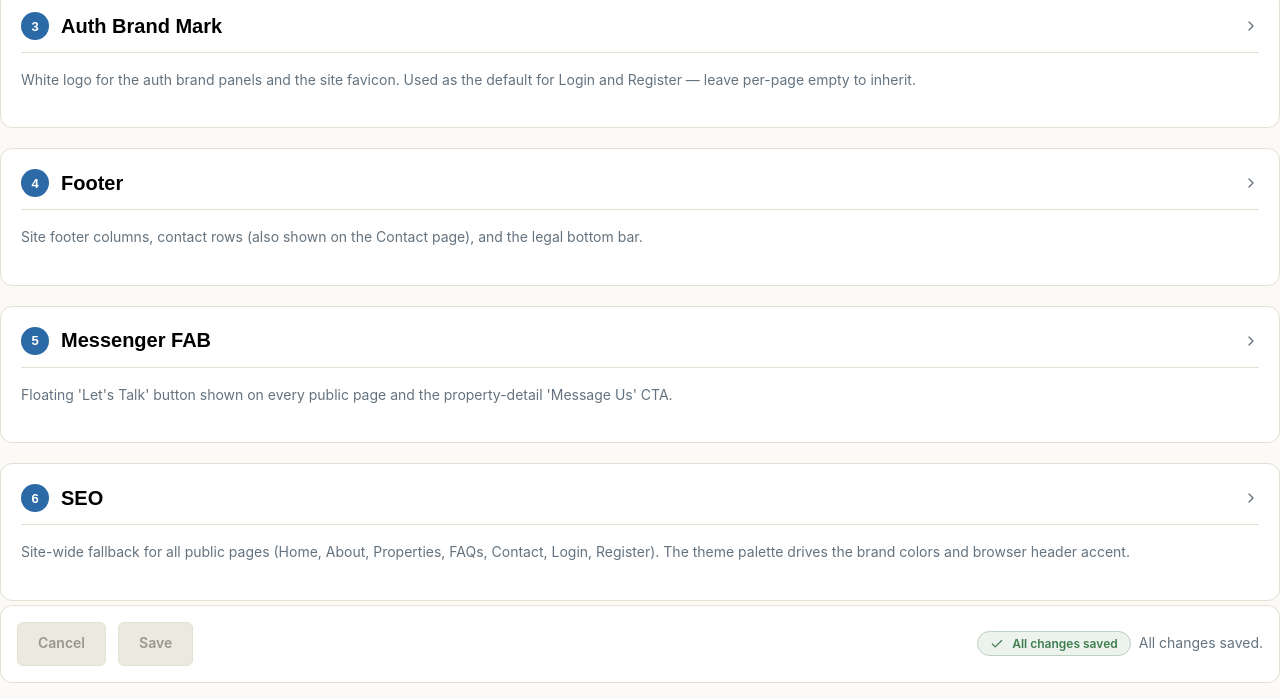
CmsGlobalPage — Global Content CMS › theme palette renders all five color fields and validates primary hex
The width and height of the screenshot is (1280, 699).
(page scrolled)
Click the button "6 SEO". click: click(82, 498)
box: [21, 484, 1259, 525]
(page scrolled)
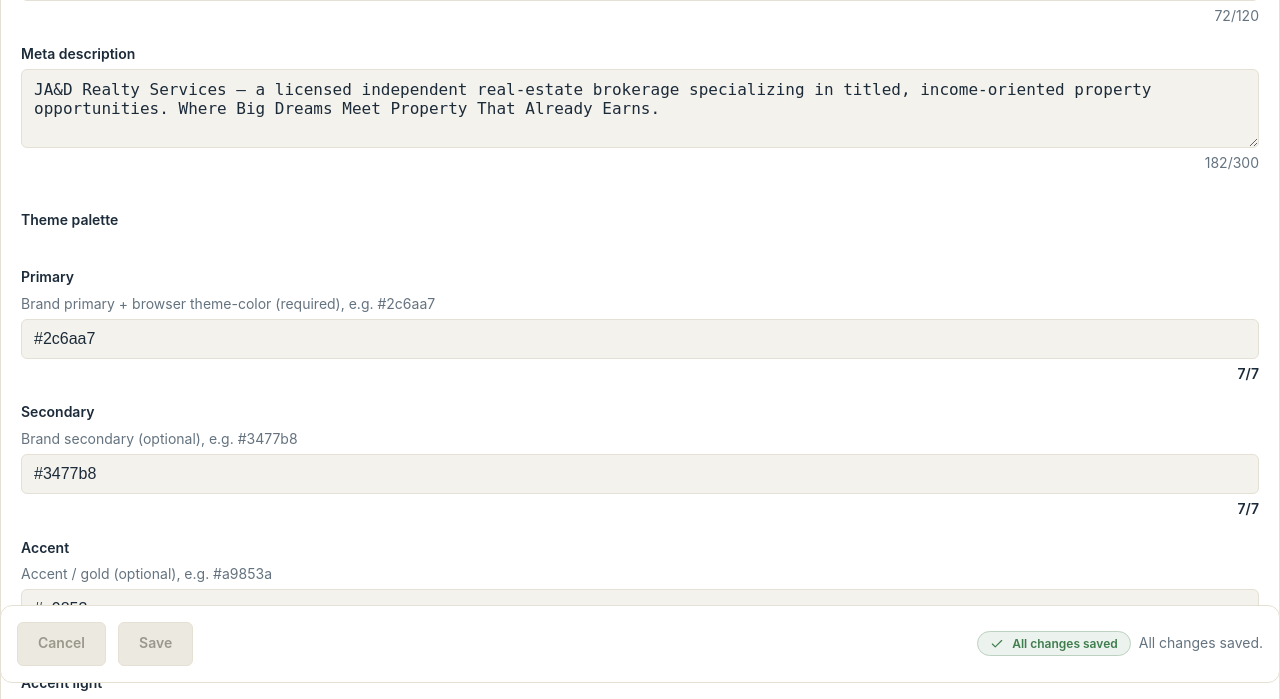
Expected: the field showing "#2c6aa7" is shown
Expected: the field showing "#3477b8" is shown, [21, 454, 1259, 494]
Expected: the field showing "#a9853a" is shown, [21, 589, 1259, 629]
Replace the text in the field showing "#2c6aa7" with "blue". click: (640, 339)
box: [21, 319, 1259, 359]
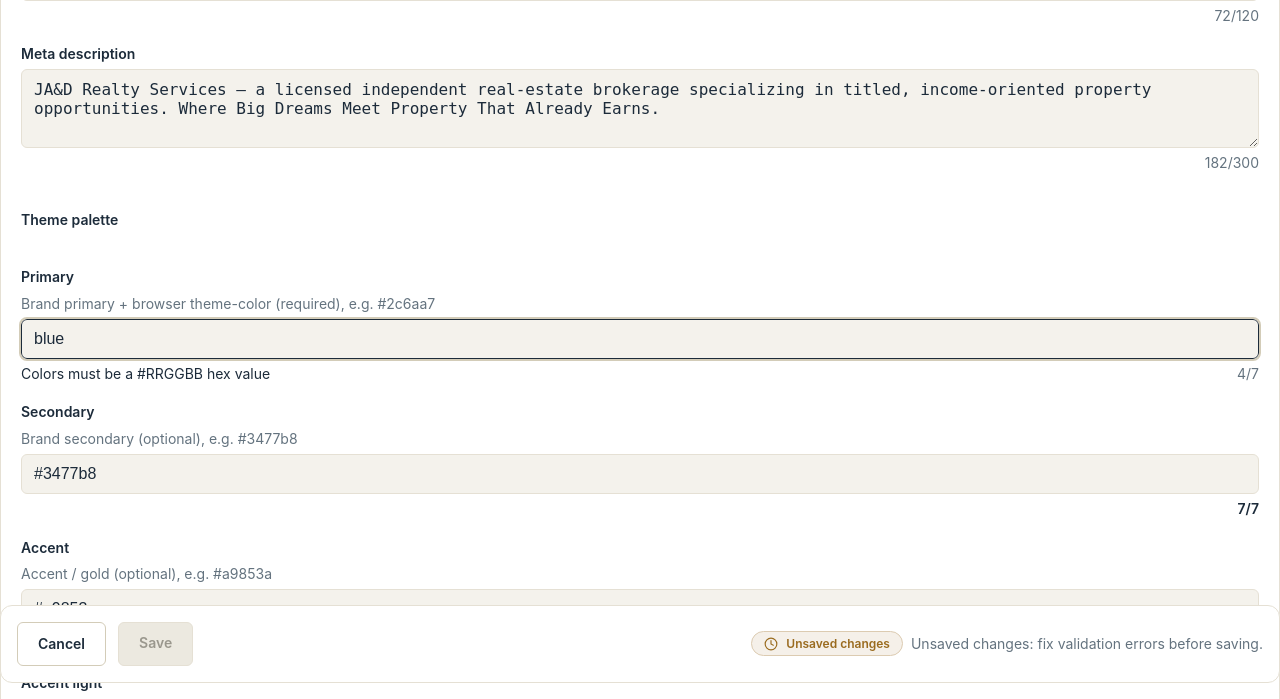
Expected: the text "Colors must be a #RRGGBB hex value" is shown, [21, 363, 270, 386]
